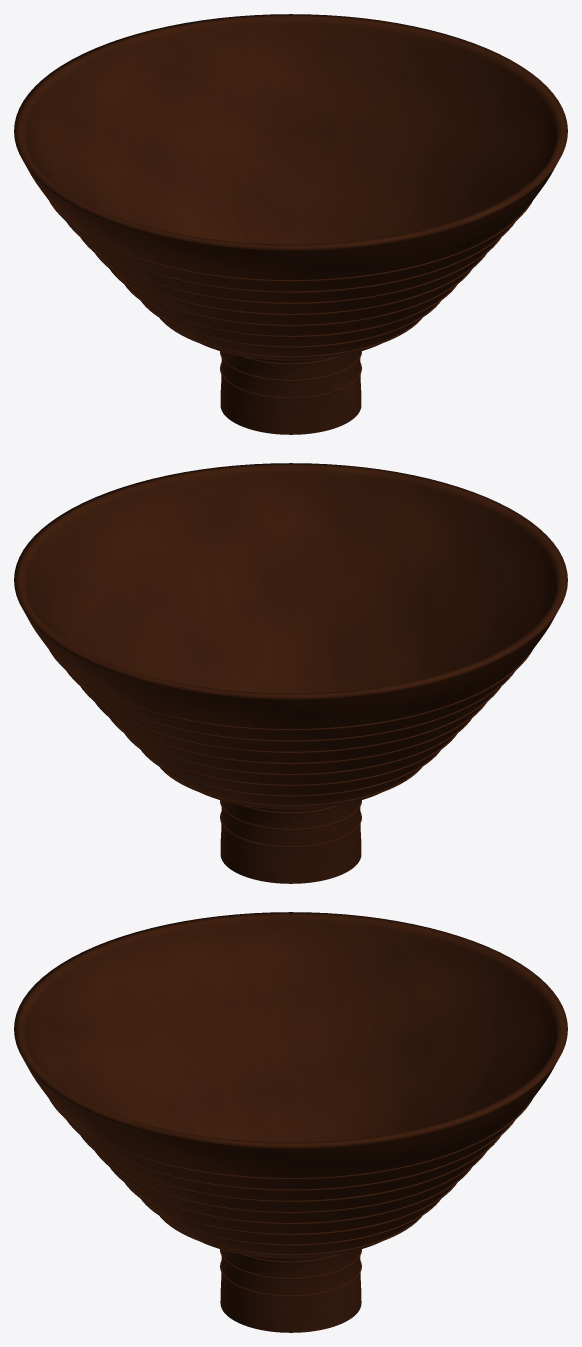
The model's file is bcm-1112.glb.
The picture shows the model from 3 angles, top to bottom: view 1: azimuth 30°, elevation 25°; view 2: azimuth 150°, elevation 25°; view 3: azimuth 270°, elevation 25°; orthographic projection.
Parts seen in each view (by area): view 1: Continuous hollow vessel with formed lip; view 2: Continuous hollow vessel with formed lip; view 3: Continuous hollow vessel with formed lip.
Part boxes in pixels (x1,y1,x2,y2): Continuous hollow vessel with formed lip: (14,14,567,434); Continuous hollow vessel with formed lip: (14,463,567,883); Continuous hollow vessel with formed lip: (14,912,567,1332).
Bounding box in the file's own units: 1.1 × 0.6 × 1.1.
